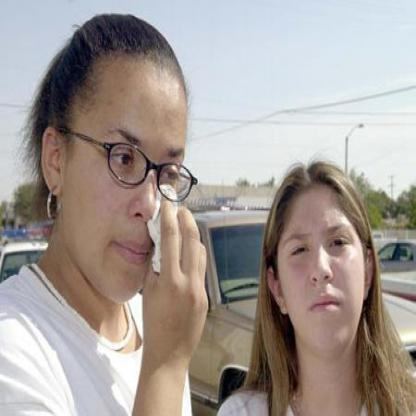face: (65, 27, 193, 307), (278, 167, 366, 358)
